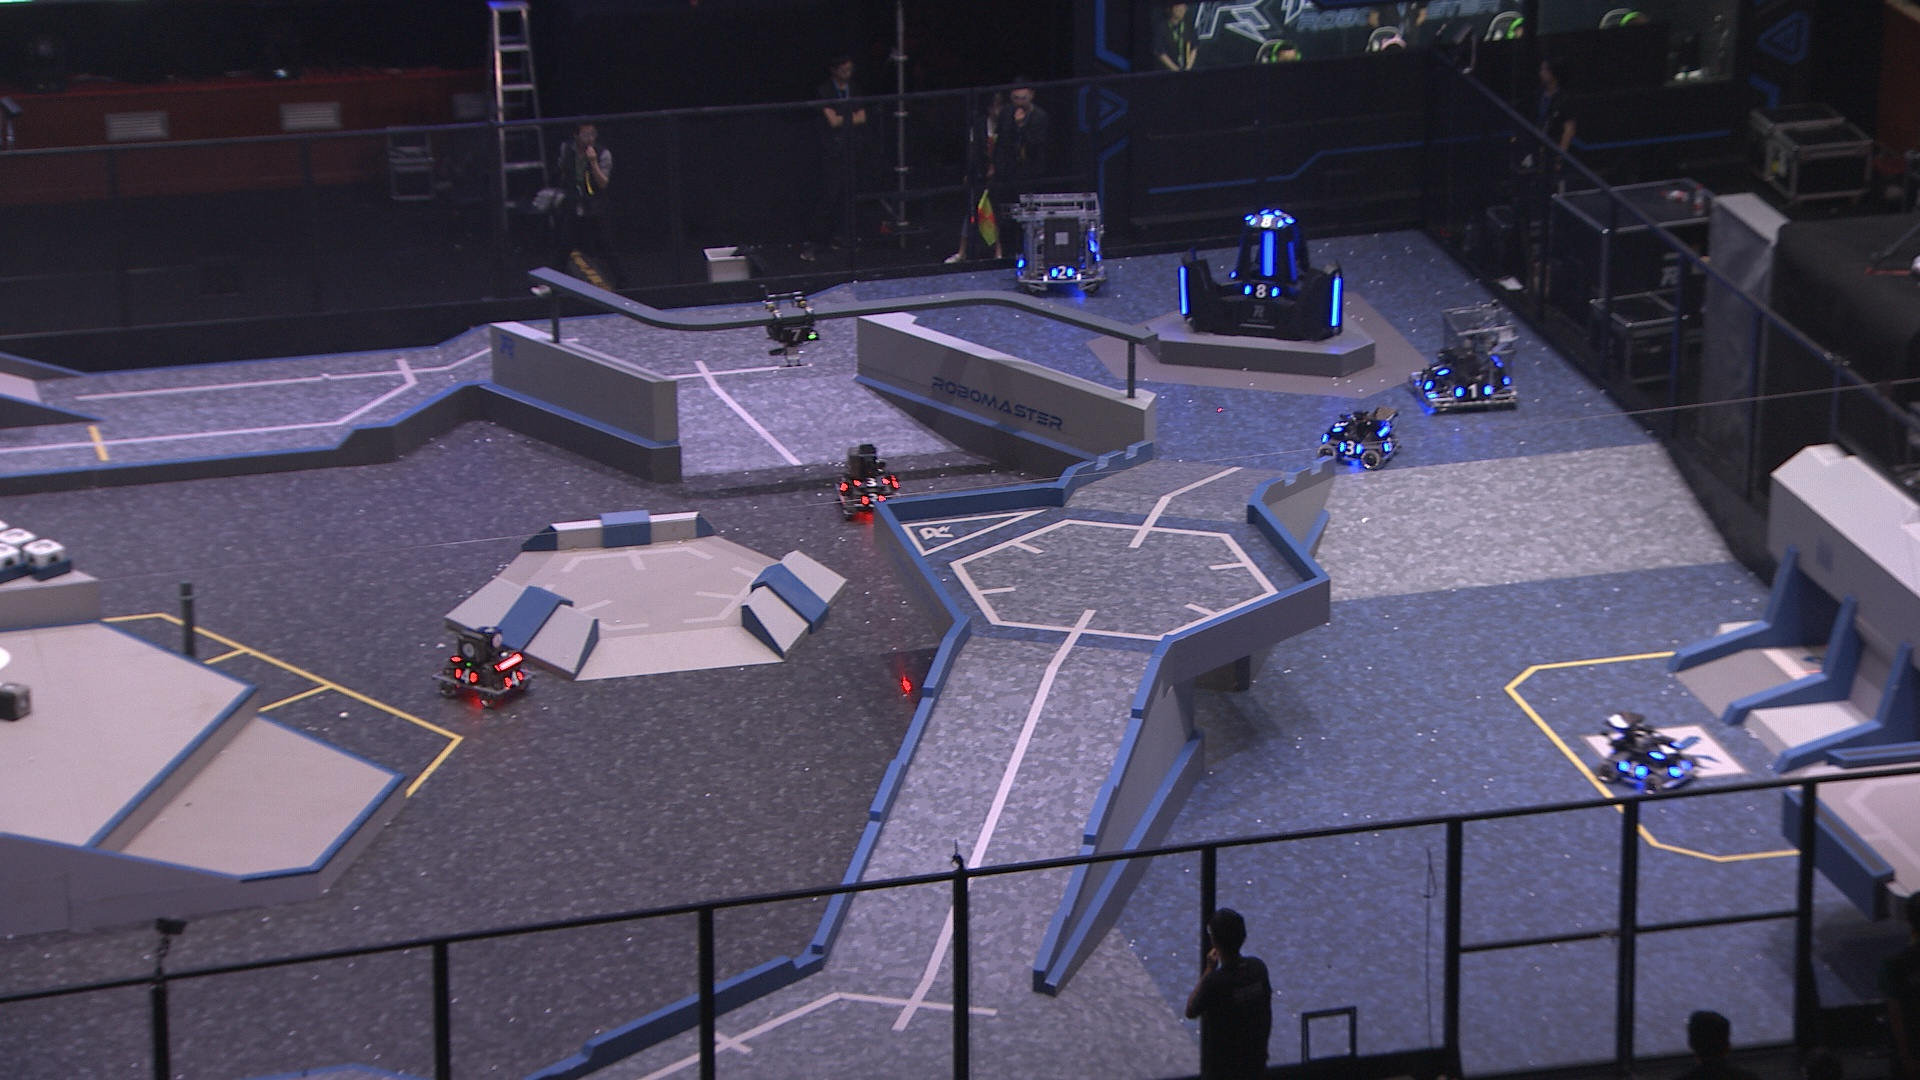armor: (1656, 756, 1693, 785), (1258, 232, 1280, 280), (1328, 277, 1346, 330), (1615, 757, 1652, 783), (1453, 381, 1495, 401), (1242, 281, 1282, 299), (1178, 262, 1191, 318), (1247, 211, 1286, 229), (498, 670, 526, 692), (1650, 742, 1685, 760), (778, 327, 814, 344), (452, 666, 479, 687), (851, 476, 887, 491), (858, 491, 887, 509), (1338, 439, 1366, 458), (1050, 262, 1076, 280), (1428, 357, 1451, 377), (1377, 433, 1396, 454), (1416, 371, 1433, 394), (1275, 207, 1296, 225), (1331, 414, 1352, 433), (836, 472, 852, 496)
base: (1174, 200, 1348, 343)
car: (1406, 301, 1519, 417), (1010, 190, 1109, 294), (436, 622, 531, 711), (1596, 709, 1695, 793), (1319, 400, 1404, 472), (831, 443, 899, 516)
watcher: (756, 281, 820, 367)
